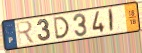3: (36, 17, 52, 43), (72, 12, 88, 37)
4: (91, 10, 106, 34)
D: (52, 16, 70, 41)
I: (108, 8, 114, 34)
R: (15, 20, 36, 46)
